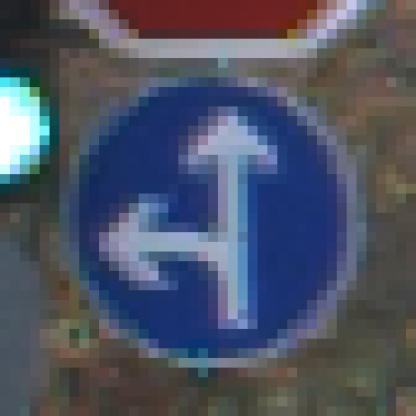Straight or Left: (51, 59, 368, 369)
